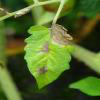Tomato leaf late blight: (22, 23, 76, 91)
